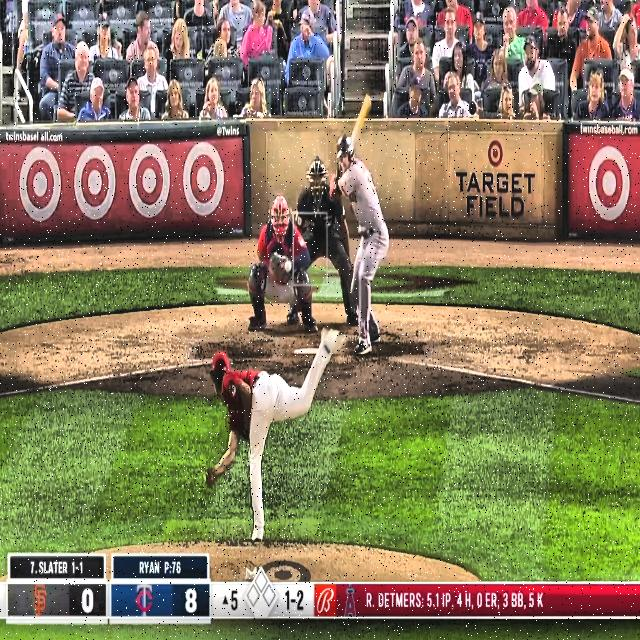baseball: (284, 260, 292, 273)
